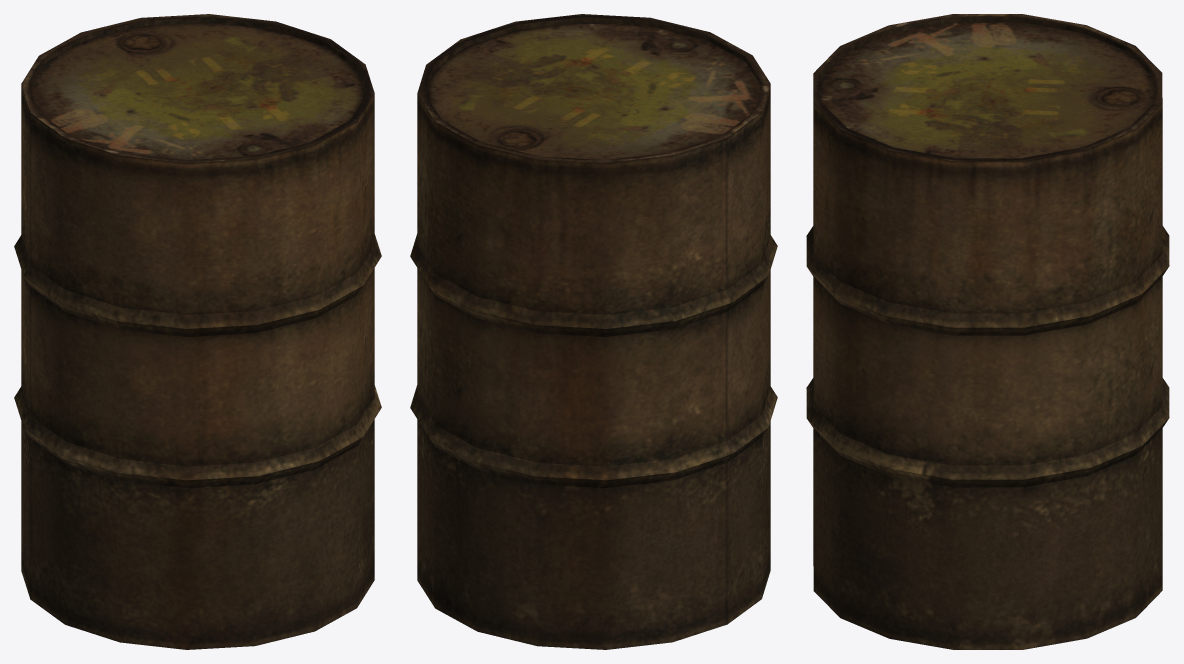
Rendered from metal_barrel_hr_1.obj.
3 views of the same model, side by side, from view 1: azimuth 30°, elevation 25°; view 2: azimuth 150°, elevation 25°; view 3: azimuth 270°, elevation 25° (orthographic).
Visible parts, largest first — view 1: metal_barrel_hr_1; view 2: metal_barrel_hr_1; view 3: metal_barrel_hr_1.
Part boxes in pixels (x1=…): metal_barrel_hr_1: x1=14, y1=14, x2=381, y2=649; metal_barrel_hr_1: x1=410, y1=14, x2=777, y2=649; metal_barrel_hr_1: x1=806, y1=14, x2=1169, y2=649.
Bounding box in the file's own units: 0.6735 × 1 × 0.6735.
